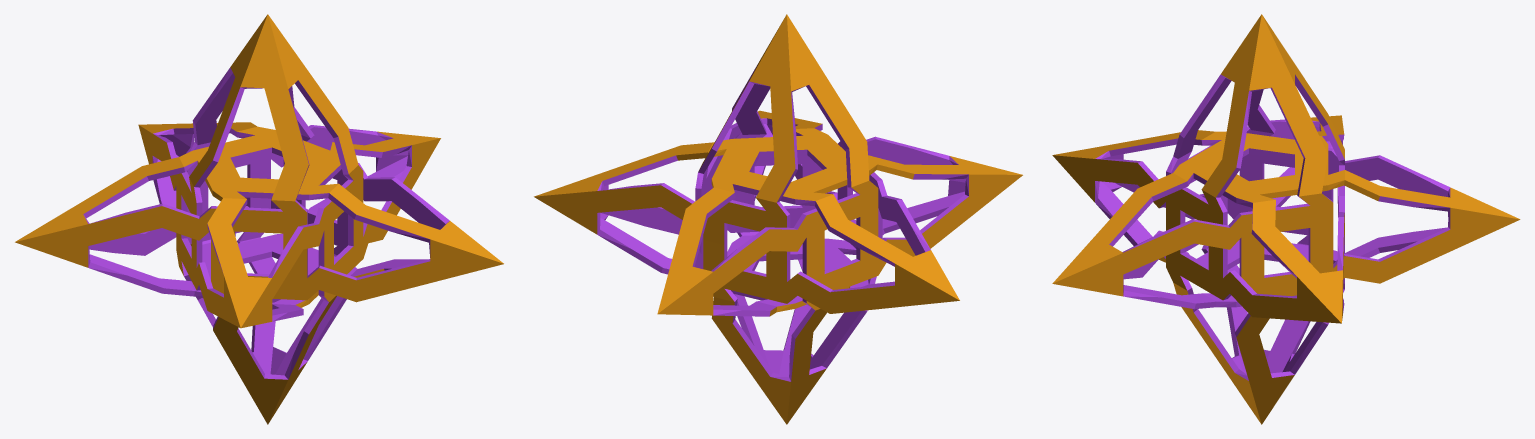
File: PrismicPolyknot5.glb
3 renders of one model, left to right at view 1: azimuth 30°, elevation 25°; view 2: azimuth 150°, elevation 25°; view 3: azimuth 270°, elevation 25°, orthographic.
Visible parts, largest first — view 1: OK_ESCHER_BBBa_PRISM5; view 2: OK_ESCHER_BBBa_PRISM5; view 3: OK_ESCHER_BBBa_PRISM5.
Boxes of the visible parts, left/top/right/bottom form: OK_ESCHER_BBBa_PRISM5: left=15, top=14, right=503, bottom=424; OK_ESCHER_BBBa_PRISM5: left=534, top=14, right=1022, bottom=424; OK_ESCHER_BBBa_PRISM5: left=1052, top=14, right=1520, bottom=424.
Size of the model in its own units: 163 by 150 by 155.
